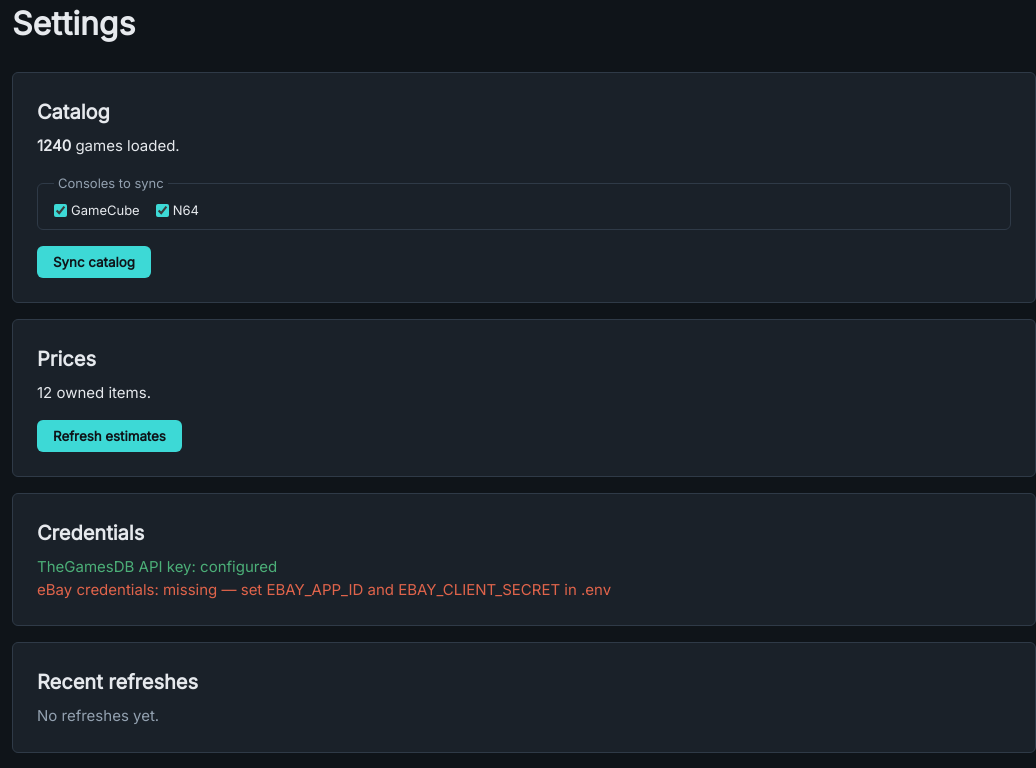
Scenario: settings page › reads the refresh stream and shows the categorized result message
Click the button "Refresh estimates" at (109, 436), box top-left (37, 420), bottom-right (182, 452)
(page scrolled)
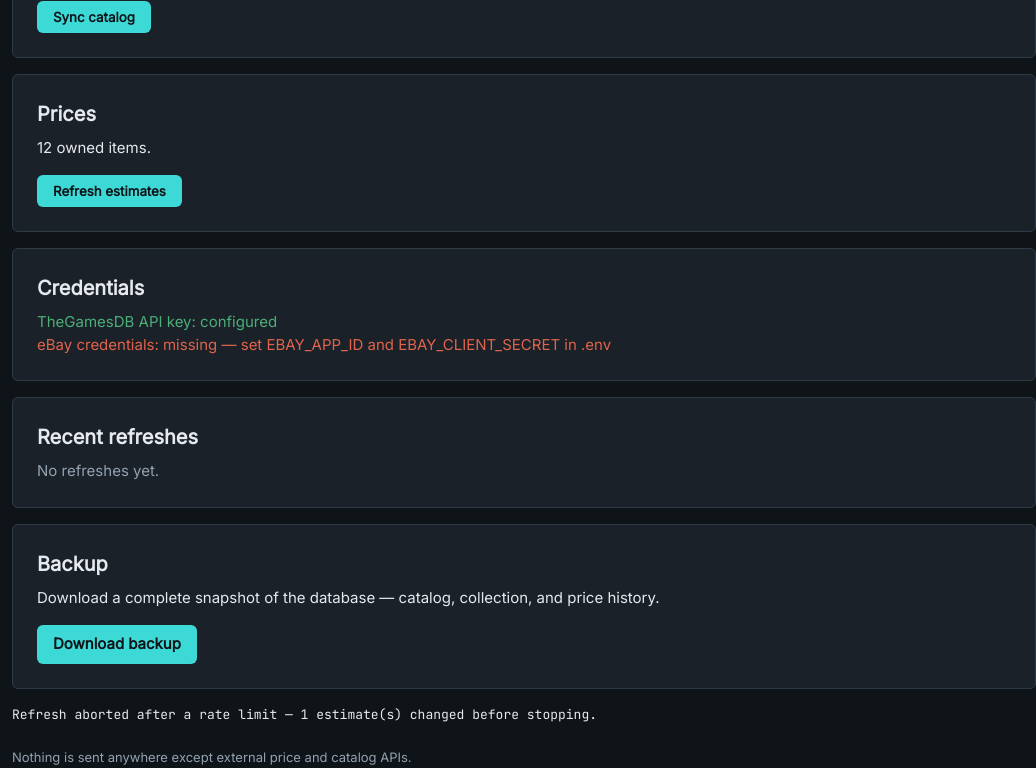
Expected: the text "aborted after a rate limit" is shown, top-left (12, 706), bottom-right (597, 722)
